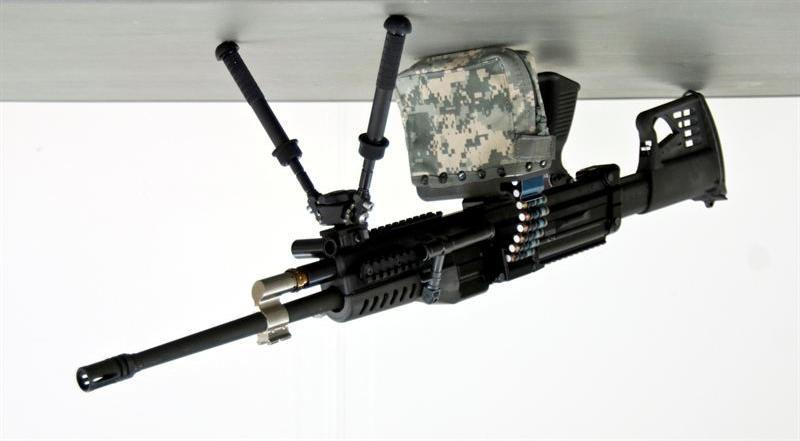larga: (75, 14, 734, 393)
